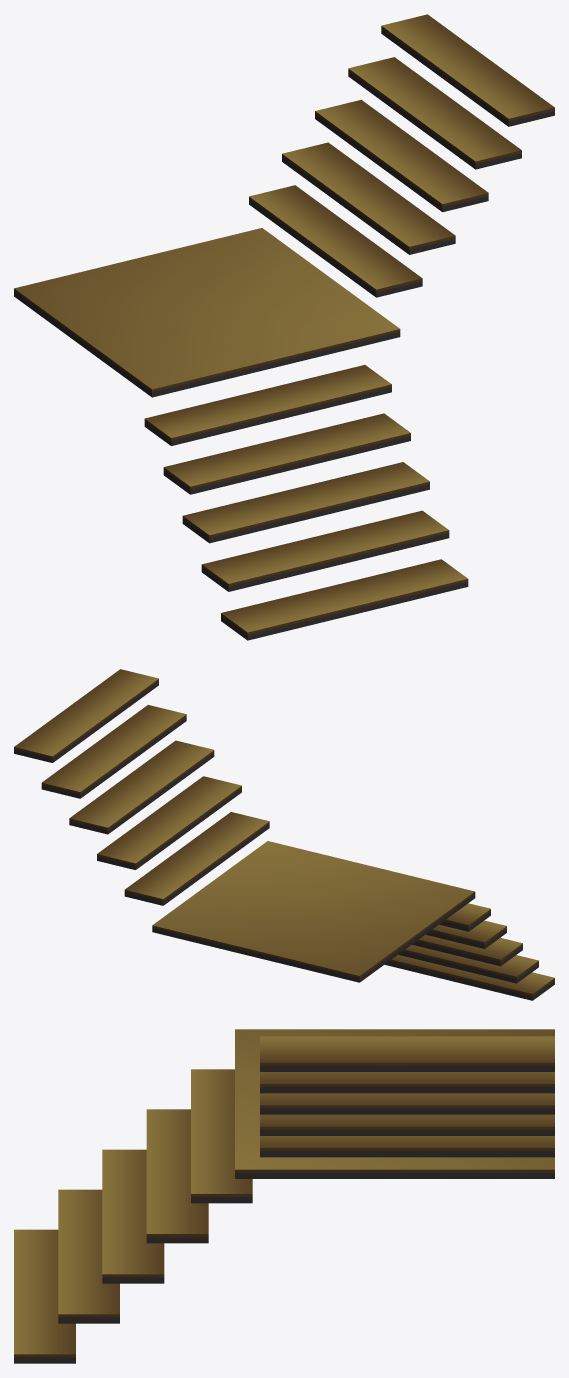
File: TSP_House_Stairs_Corner_01A.L.fbx
3 renders of one model, top to bottom at view 1: azimuth 30°, elevation 25°; view 2: azimuth 150°, elevation 25°; view 3: azimuth 270°, elevation 25°, orthographic. The views are drawn at different scales.
Visible parts, largest first — view 1: TSP_House_Stairs_Corner_01A.L; view 2: TSP_House_Stairs_Corner_01A.L; view 3: TSP_House_Stairs_Corner_01A.L.
Boxes of the visible parts, bbox=[...] form: TSP_House_Stairs_Corner_01A.L: bbox=[14, 14, 554, 640]; TSP_House_Stairs_Corner_01A.L: bbox=[14, 669, 554, 1000]; TSP_House_Stairs_Corner_01A.L: bbox=[14, 1029, 554, 1363].
Bounding box in the file's own units: 3.75 × 3.07 × 3.67.
